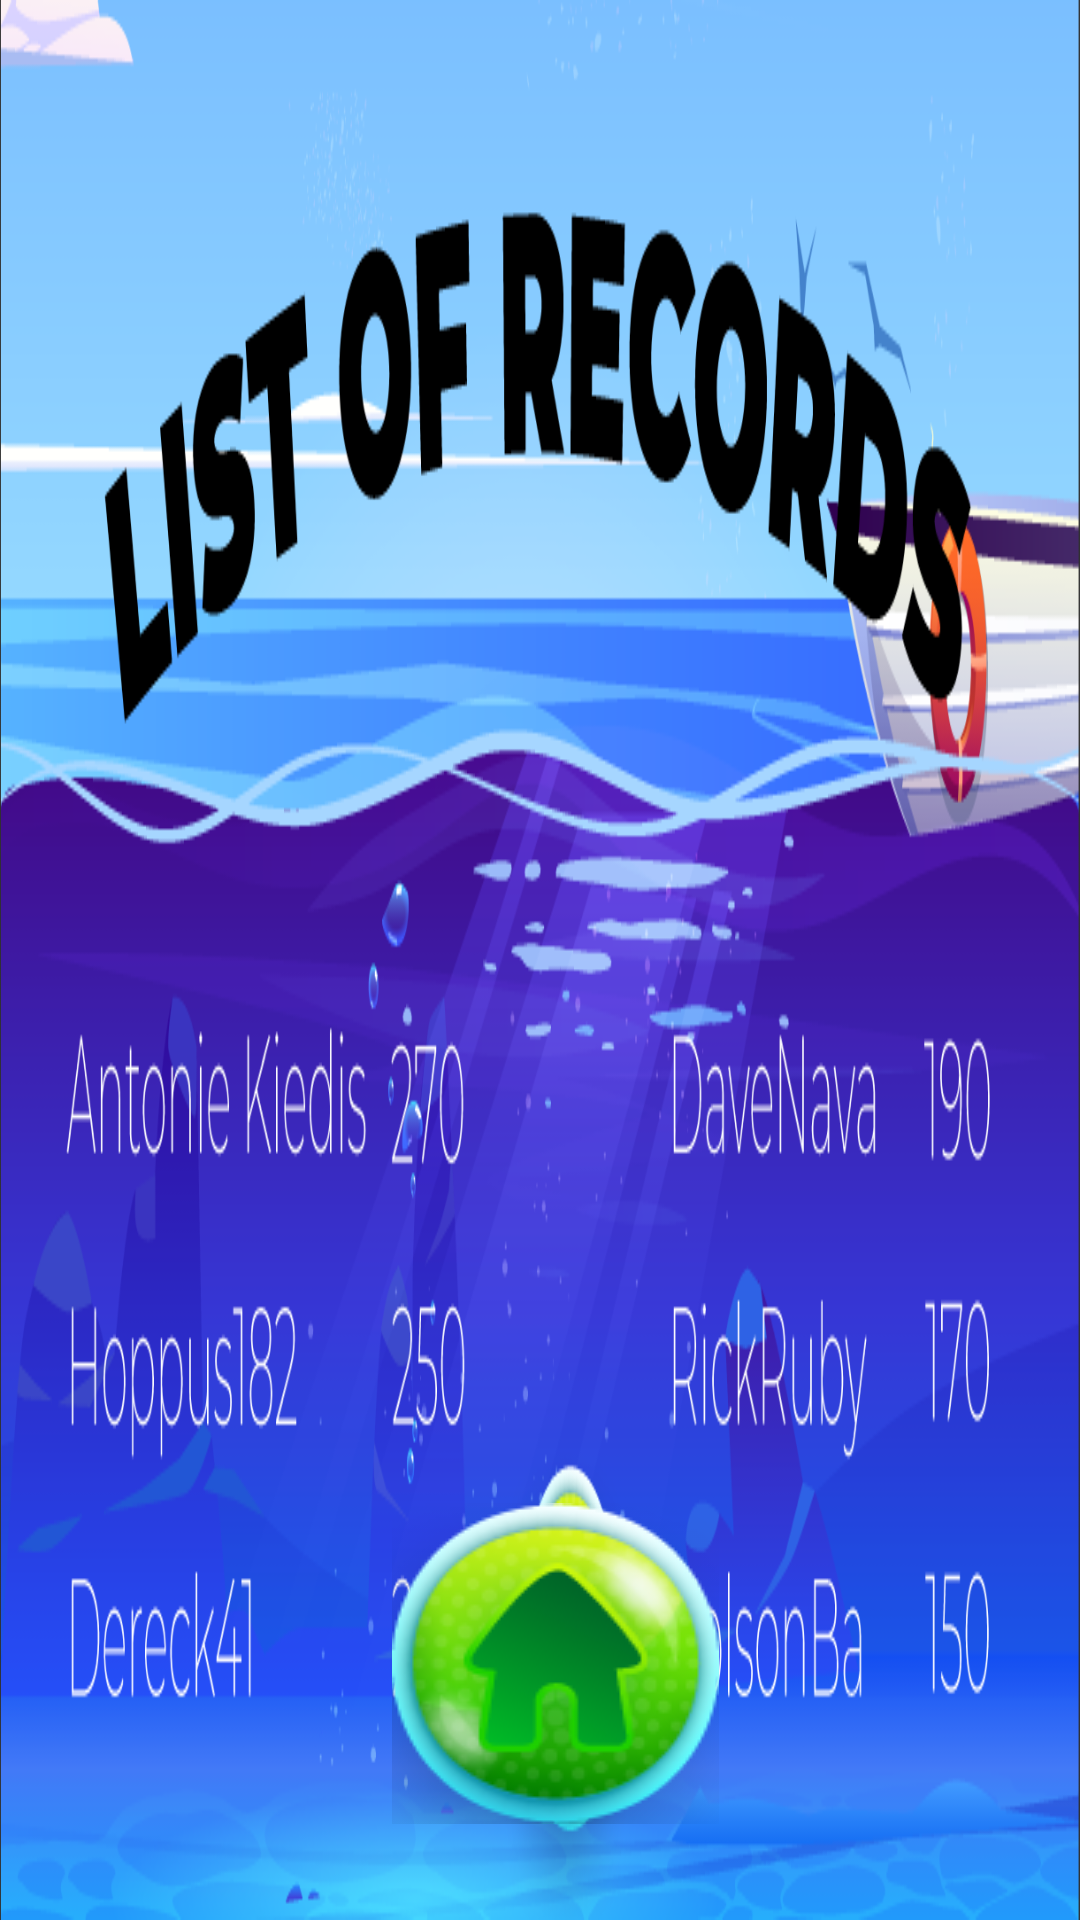

Icons on this 1080 × 1920 Android screen, each with the point to tap as (x,y):
Home: (555,1663)
